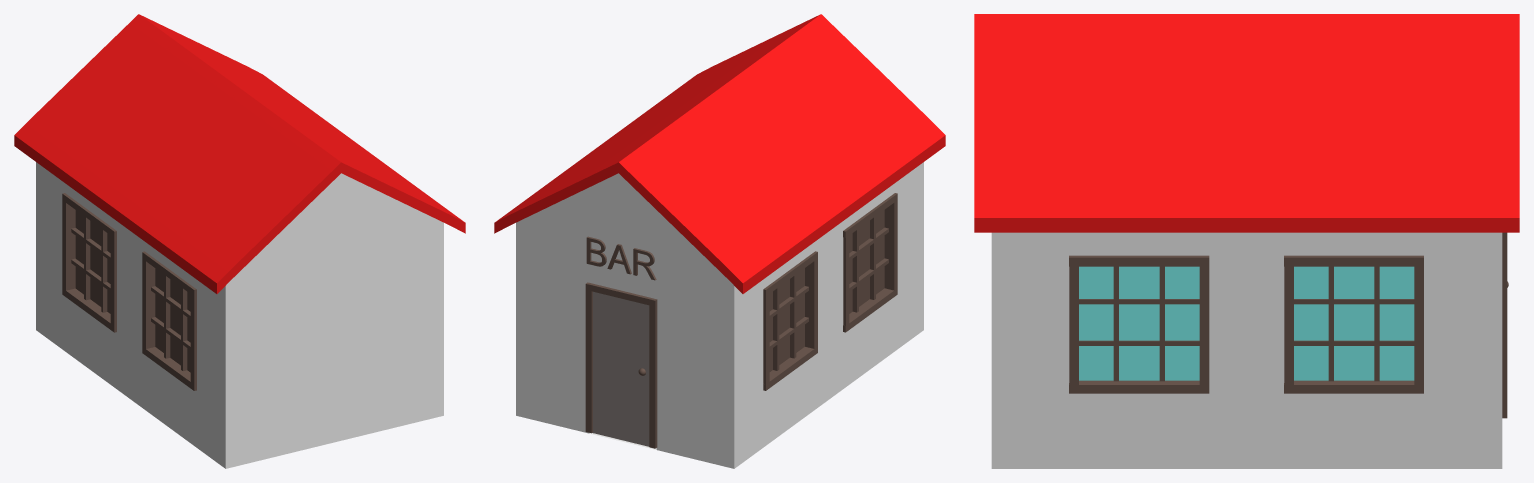
3 views of the same model, side by side, from view 1: azimuth 30°, elevation 25°; view 2: azimuth 150°, elevation 25°; view 3: azimuth 270°, elevation 25° (orthographic). The views are drawn at different scales.
Visible parts, largest first — view 1: Box062, Object002, Box065, Box057, Box040, Box058, Box054, Box039, Box056, Box042, Box059, Box044 (+2 smaller); view 2: Box062, Plane009, Object002, Box052, Box051, Box039, Text002, Box058, Box054, Box040, Box065, Box057 (+6 smaller); view 3: Box062, Plane007, Plane010, Box046, Box045, Box047, Box064, Box069, Box041, Box063, Box050, Box051 (+8 smaller).
Part boxes in pixels (<box>): Box062: <box>14,14,465,468</box>; Object002: <box>75,210,190,372</box>; Box065: <box>142,252,155,353</box>; Box057: <box>62,200,75,295</box>; Box040: <box>142,347,196,390</box>; Box058: <box>110,229,116,332</box>; Box054: <box>62,288,116,332</box>; Box039: <box>190,288,196,390</box>; Box056: <box>84,216,90,300</box>; Box042: <box>181,287,187,370</box>; Box059: <box>101,229,107,312</box>; Box044: <box>164,275,170,358</box>; Box062: <box>494,14,945,468</box>; Plane009: <box>592,291,649,446</box>; Object002: <box>769,210,884,371</box>; Box052: <box>649,299,657,448</box>; Box051: <box>585,282,592,433</box>; Box039: <box>884,200,897,290</box>; Text002: <box>586,236,656,280</box>; Box058: <box>805,258,817,348</box>; Box054: <box>763,346,817,390</box>; Box040: <box>843,288,897,332</box>; Box065: <box>843,229,849,329</box>; Box057: <box>763,289,769,388</box>; Box062: <box>974,14,1519,468</box>; Plane007: <box>1294,266,1414,380</box>; Plane010: <box>1079,266,1199,380</box>; Box046: <box>1069,380,1209,393</box>; Box045: <box>1284,380,1423,393</box>; Box047: <box>1069,255,1209,266</box>; Box064: <box>1284,255,1423,266</box>; Box069: <box>1199,258,1209,393</box>; Box041: <box>1414,258,1423,393</box>; Box063: <box>1284,258,1293,393</box>; Box050: <box>1069,258,1078,393</box>; Box051: <box>1502,232,1507,418</box>.
Bounding box in the file's own units: 105047 × 114976 × 148284.
